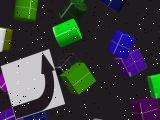Left: (1, 49, 65, 120)
